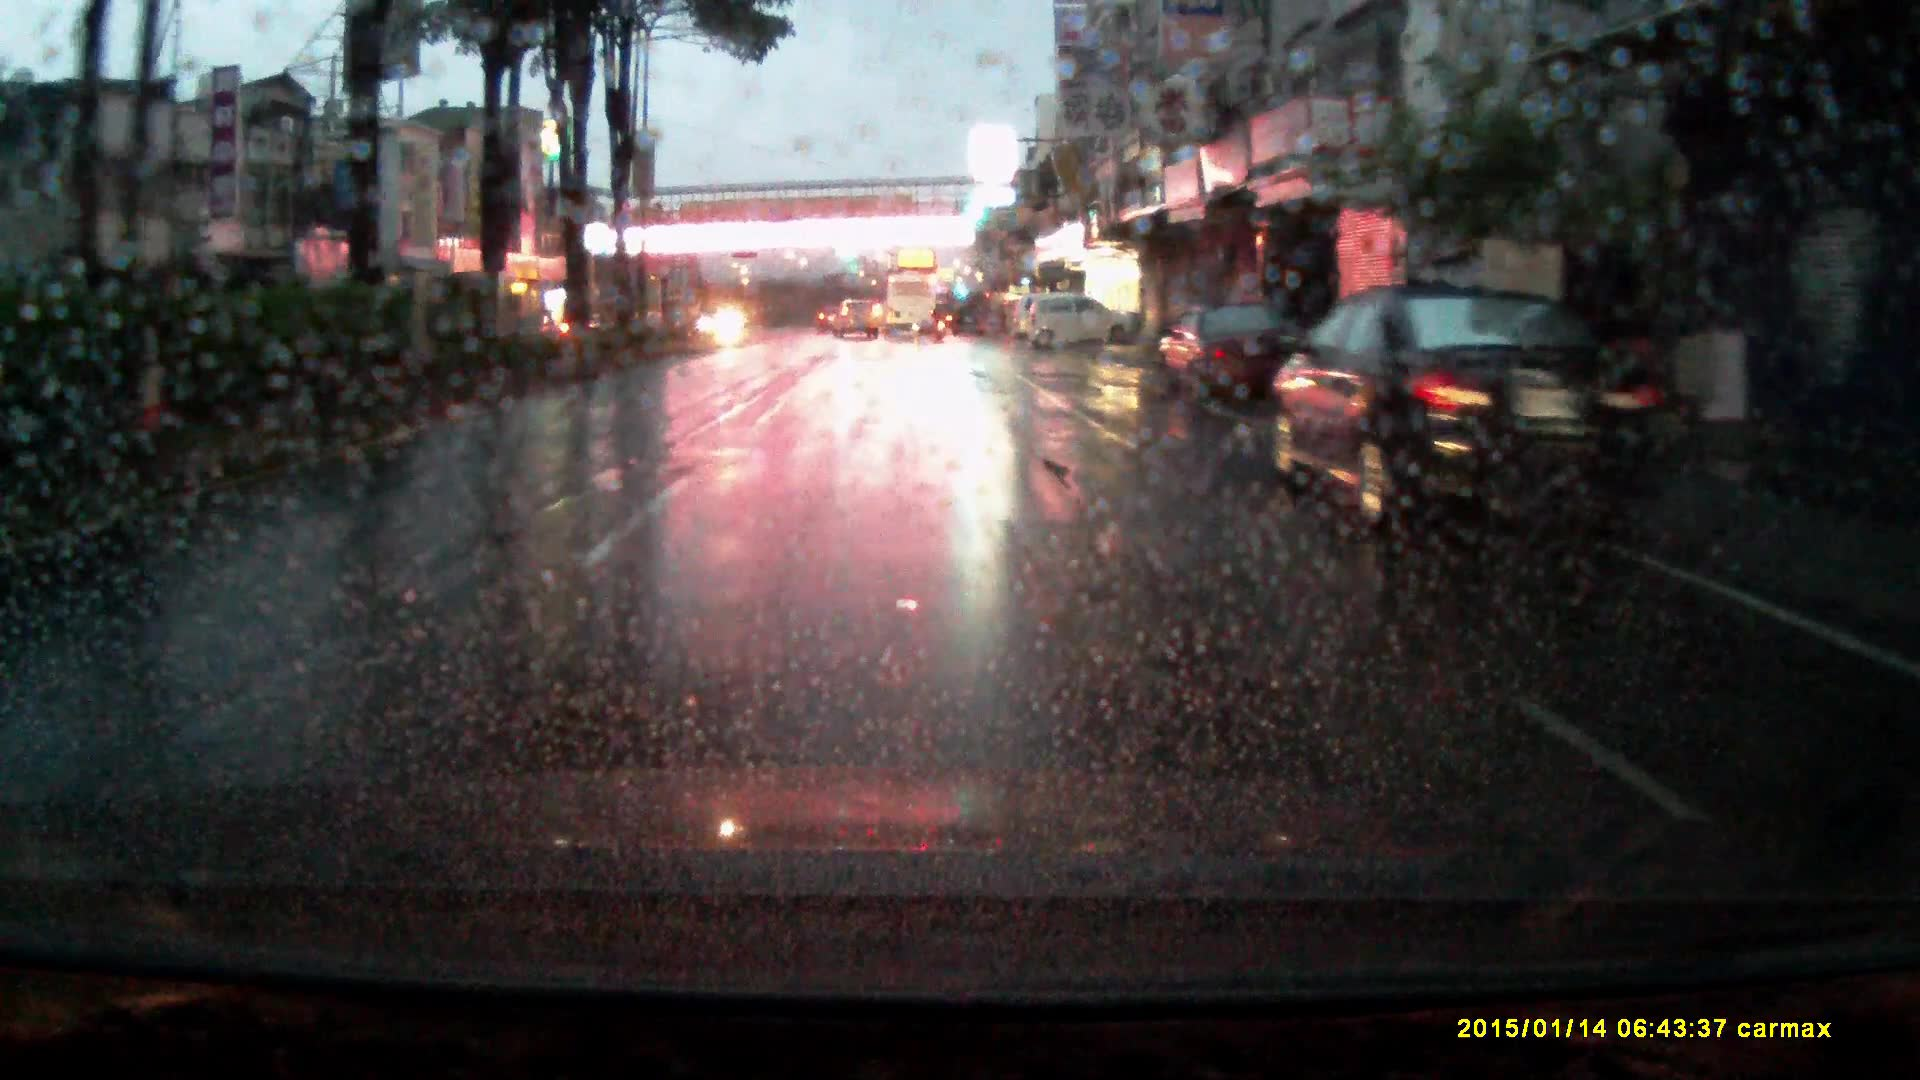vehicle: (1265, 284, 1691, 534), (1156, 305, 1313, 407), (1025, 293, 1139, 352), (881, 276, 936, 332), (833, 295, 881, 338), (818, 303, 840, 328)
